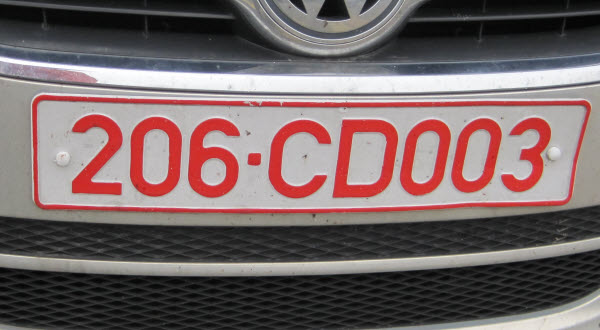license_plate: (31, 92, 592, 214)
